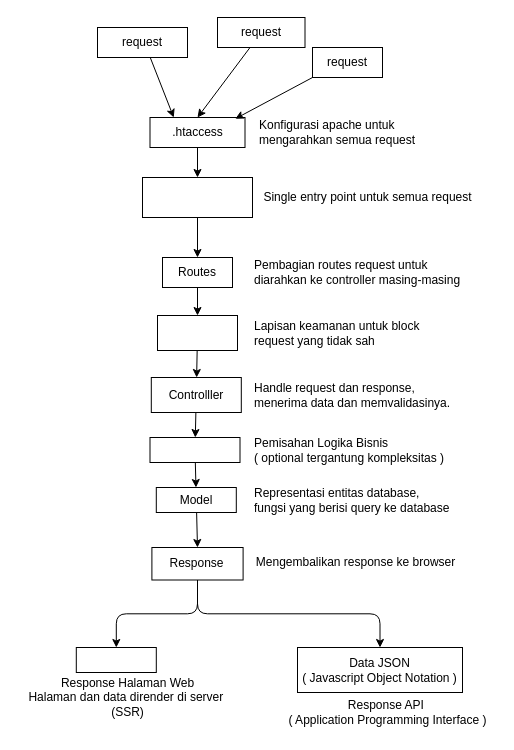
Image size: 514x750. Some labels were removed from this diagram. The shapes that lost their labels are listed below. From the top down, each one's centre as x and y in pixels, then its label:
point 197,197: Entry Point ( public/index.php )
point 197,332: Middleware
point 194,449: Services
point 115,659: View
